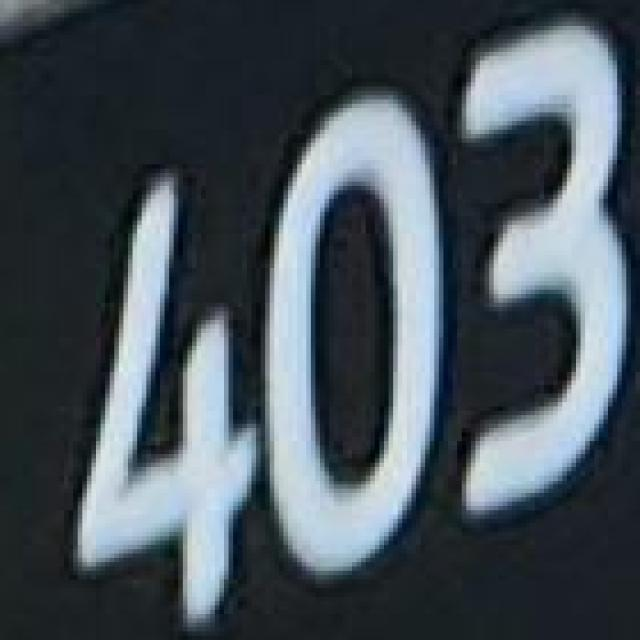character: (60, 158, 261, 640), (455, 11, 640, 524), (262, 85, 445, 584)
